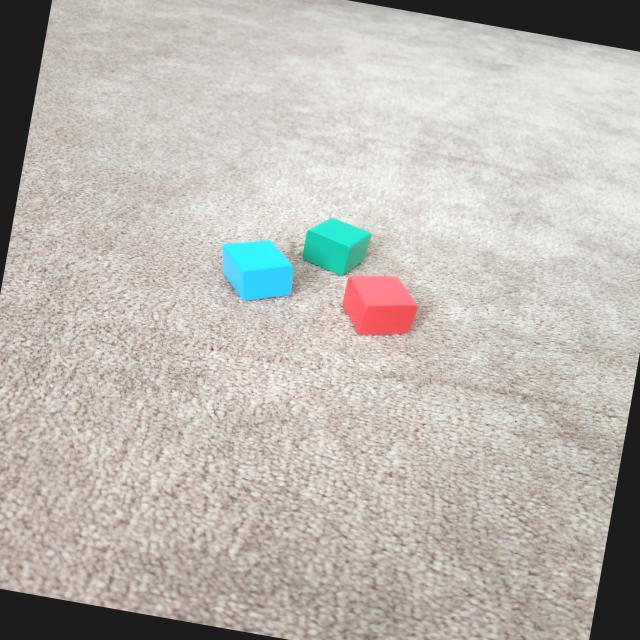bluecube: (212, 229, 300, 309)
green cube: (300, 212, 372, 276)
red cube: (342, 276, 419, 333)
